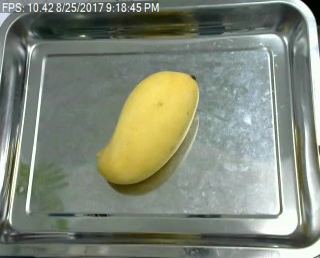Mango: (94, 69, 202, 187)
